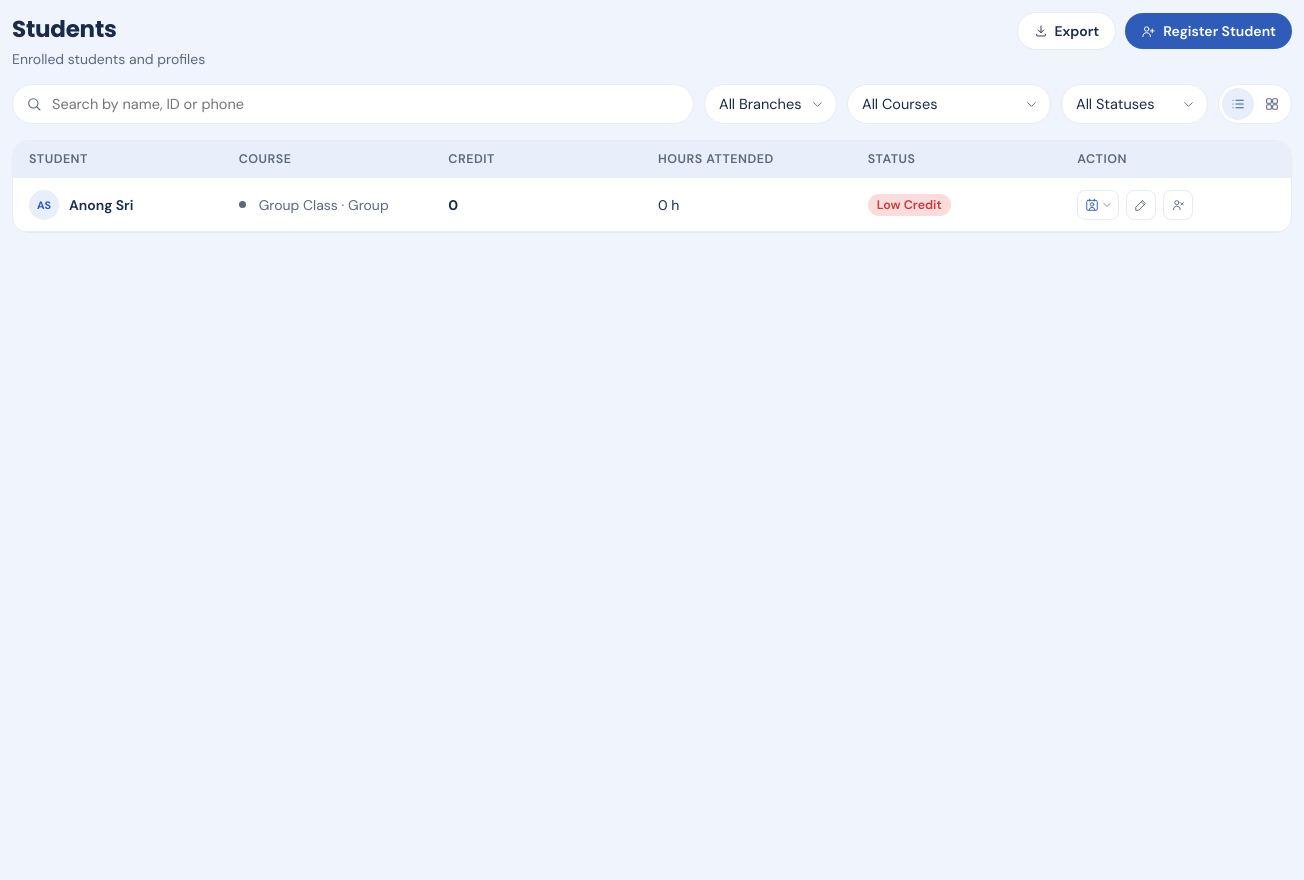
Test: a save that fails › writes what went wrong on the form
Click the text "Anong Sri" at (101, 204), box [69,196,133,214]
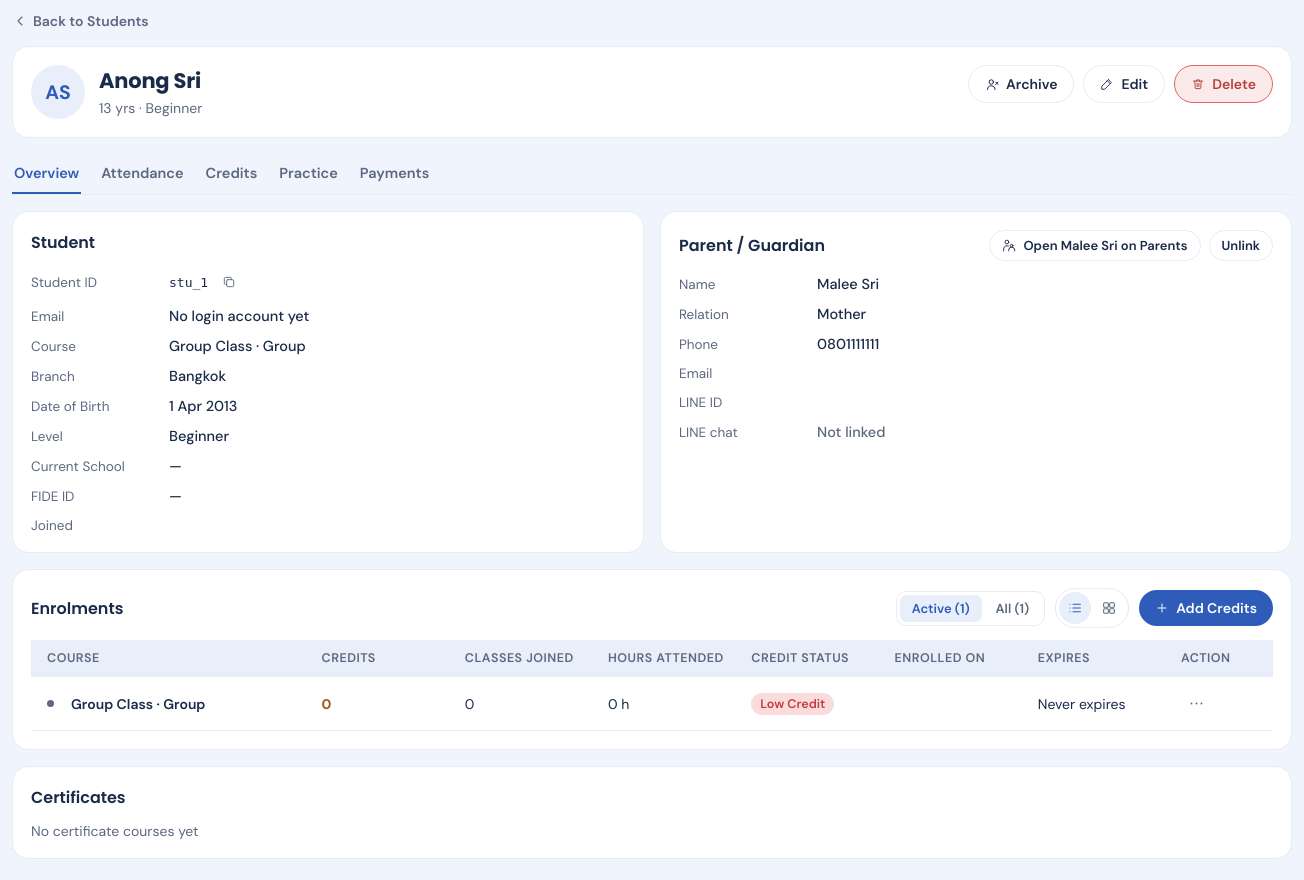
Result: the button "Back to Students" is shown at [12,12,149,30]
Click the button "Edit" at (1124, 84), box [1084,65,1165,103]
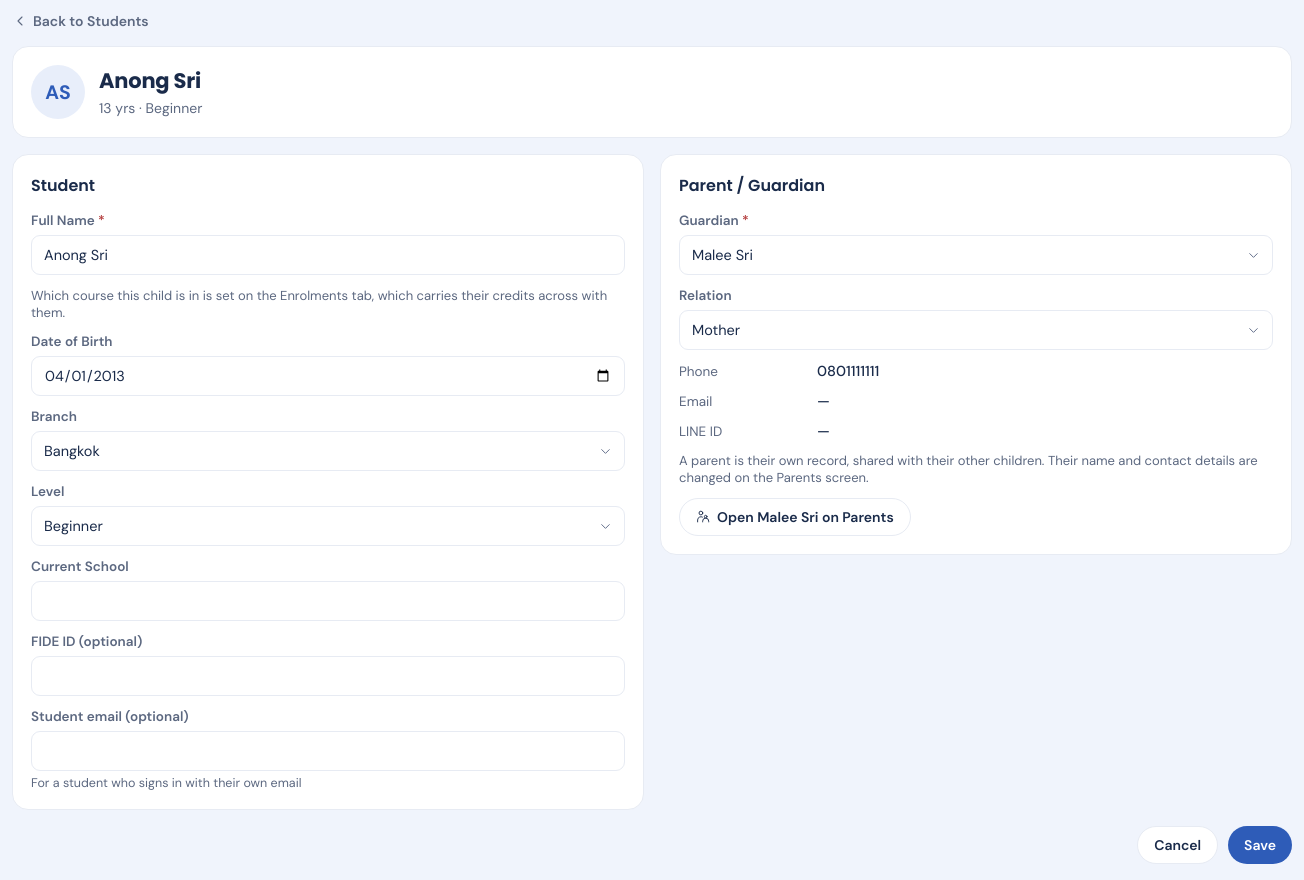
Click the button "Save" at (1260, 845), box [1228,826,1292,864]
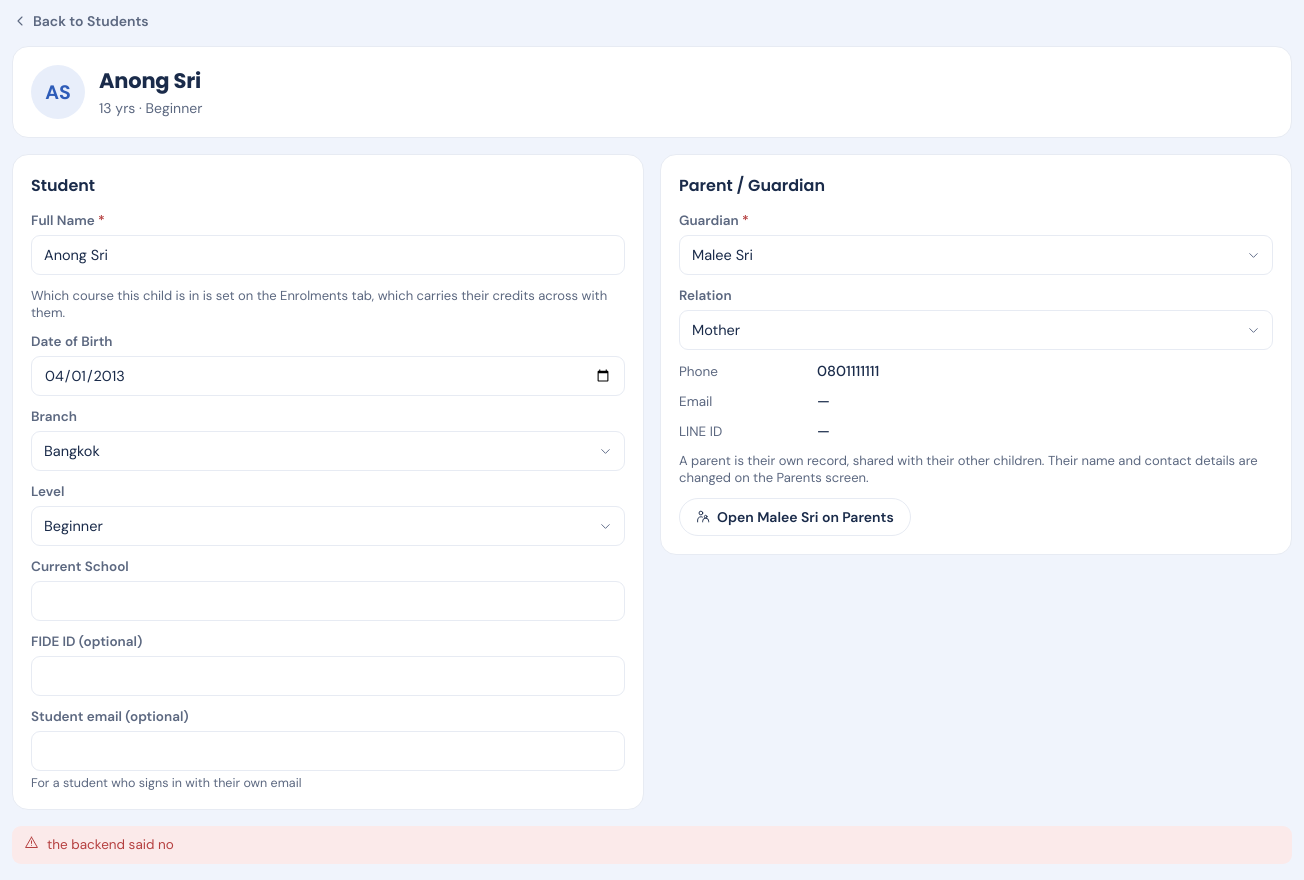
Result: the text "the backend said no" is shown at [47,835,174,855]
